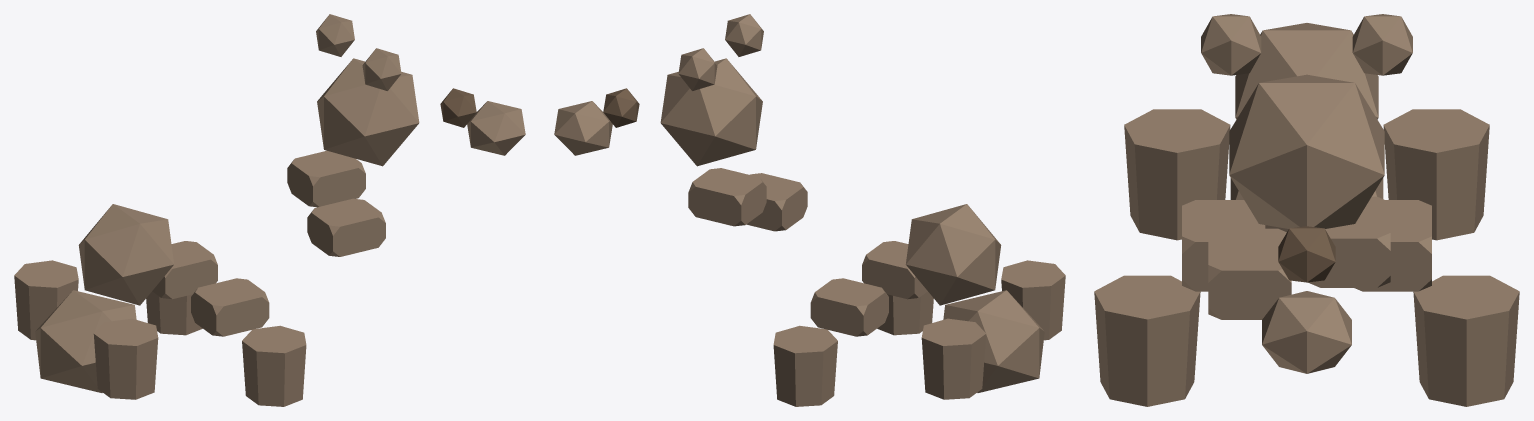
3 views of the same model, side by side, from view 1: azimuth 30°, elevation 25°; view 2: azimuth 150°, elevation 25°; view 3: azimuth 270°, elevation 25° (orthographic). The views are drawn at different scales.
Visible parts, largest first — view 1: part2, part0, part1, part13, part9, part10, part14, part8, part11, part12, part5, part7 (+3 smaller); view 2: part2, part0, part1, part11, part7, part8, part12, part13, part14, part5, part10, part9 (+3 smaller); view 3: part2, part7, part9, part11, part13, part10, part0, part5, part8, part12, part14, part3 (+3 smaller).
Part boxes in pixels (bbox=[...]): part2: bbox=[317, 58, 419, 166]; part0: bbox=[78, 204, 174, 305]; part1: bbox=[35, 290, 136, 392]; part13: bbox=[93, 318, 158, 399]; part9: bbox=[242, 325, 306, 406]; part10: bbox=[307, 198, 385, 256]; part14: bbox=[191, 278, 269, 336]; part8: bbox=[287, 150, 365, 207]; part11: bbox=[14, 260, 78, 340]; part12: bbox=[152, 241, 217, 299]; part5: bbox=[467, 101, 525, 155]; part7: bbox=[146, 291, 202, 335]; part2: bbox=[660, 58, 762, 166]; part0: bbox=[905, 204, 1001, 305]; part1: bbox=[943, 290, 1044, 392]; part11: bbox=[921, 318, 986, 399]; part7: bbox=[773, 325, 837, 406]; part8: bbox=[688, 168, 766, 226]; part12: bbox=[810, 278, 888, 336]; part13: bbox=[1001, 260, 1065, 340]; part14: bbox=[862, 241, 927, 299]; part5: bbox=[554, 101, 612, 155]; part10: bbox=[746, 173, 807, 231]; part9: bbox=[877, 291, 933, 335]; part2: bbox=[1229, 74, 1384, 228]; part7: bbox=[1413, 275, 1519, 406]; part9: bbox=[1094, 275, 1200, 406]; part11: bbox=[1383, 109, 1489, 240]; part13: bbox=[1124, 109, 1230, 240]; part10: bbox=[1208, 228, 1291, 319]; part0: bbox=[1235, 23, 1378, 119]; part5: bbox=[1262, 291, 1351, 373]; part8: bbox=[1308, 196, 1390, 287]; part12: bbox=[1354, 200, 1431, 291]; part14: bbox=[1182, 200, 1265, 291]; part3: bbox=[1352, 14, 1412, 75].
Size of the model in its own units: 5.64 by 3.27 by 2.65.
